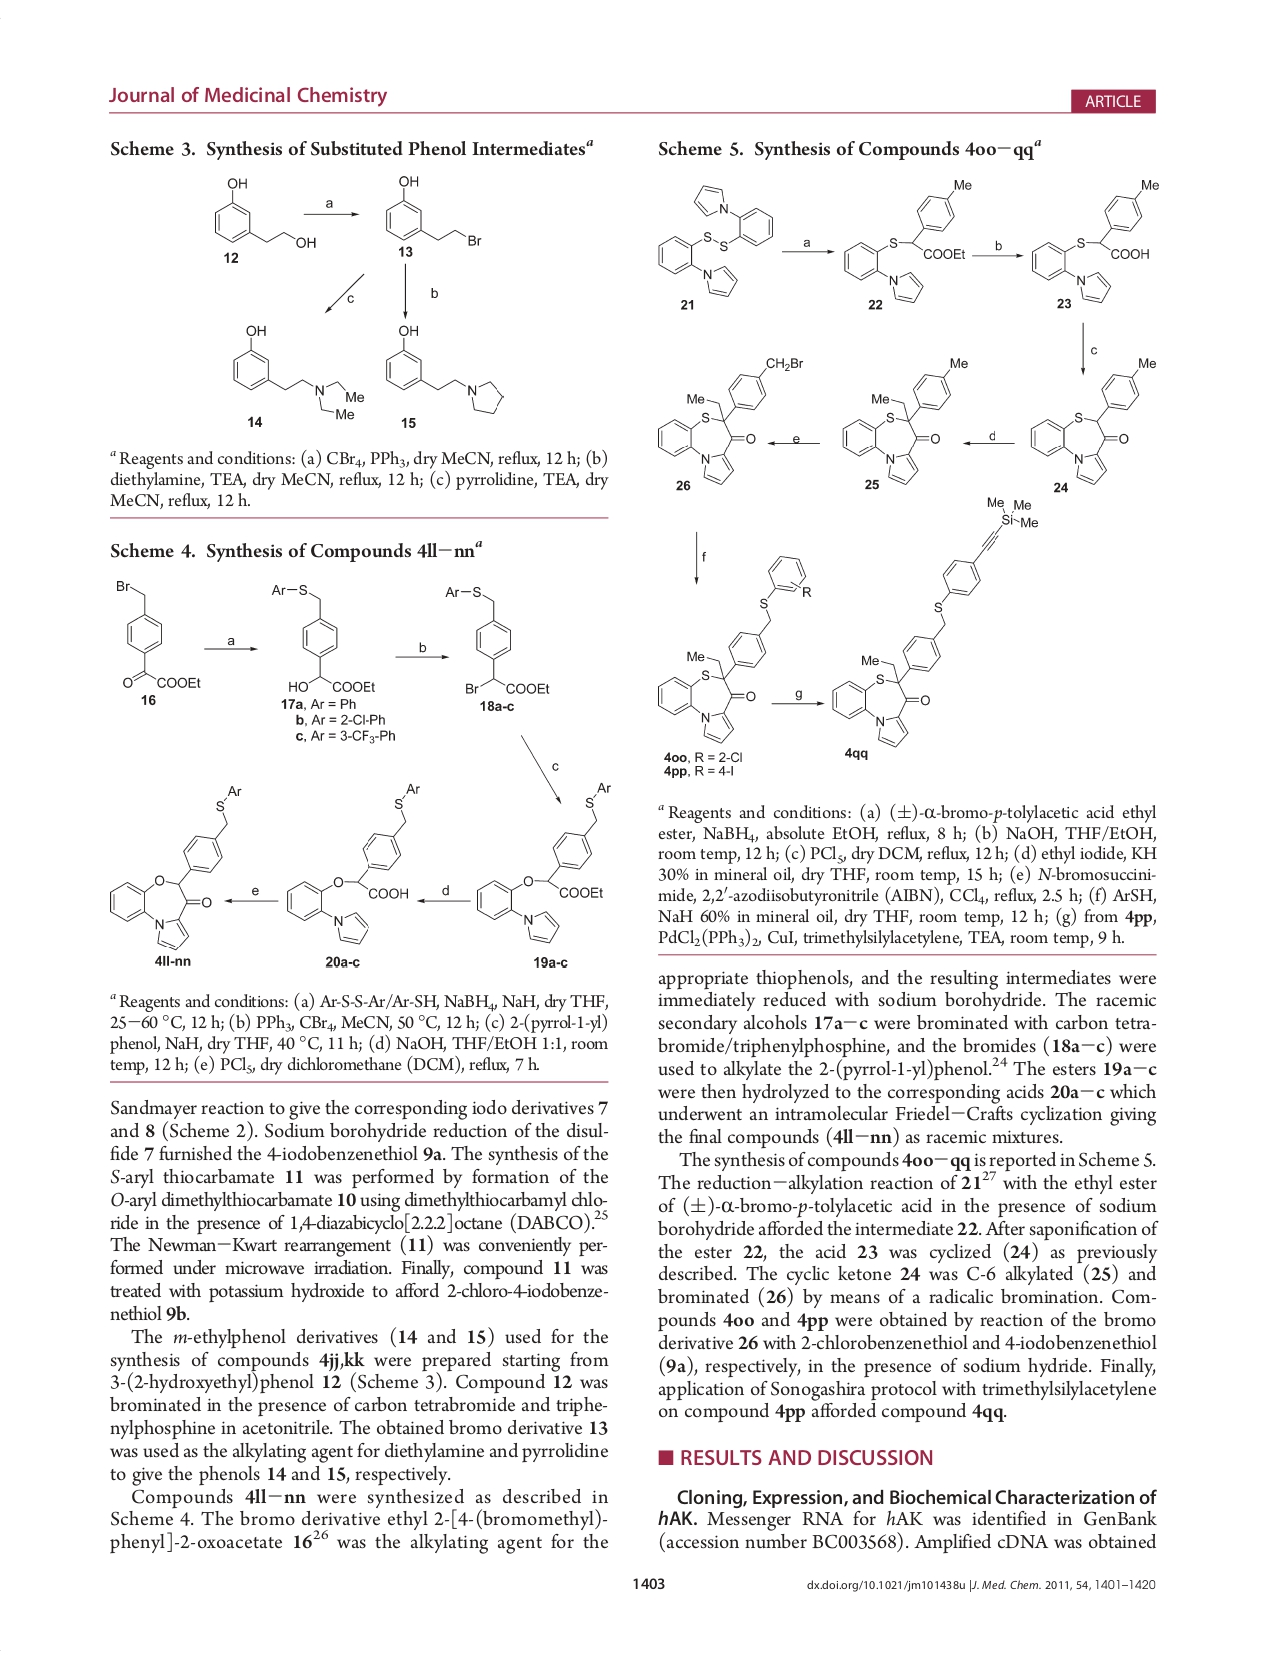exist_molecular: (828, 493, 1040, 747), (653, 553, 813, 747), (473, 781, 614, 947), (106, 782, 243, 952), (285, 781, 422, 947), (656, 354, 803, 487), (838, 355, 968, 487), (840, 176, 973, 305), (1028, 176, 1160, 305), (1028, 356, 1156, 487), (654, 182, 778, 299), (230, 322, 364, 422), (267, 581, 380, 696), (442, 582, 555, 697), (383, 321, 504, 416), (113, 571, 206, 693), (379, 170, 485, 247), (211, 176, 319, 251)
